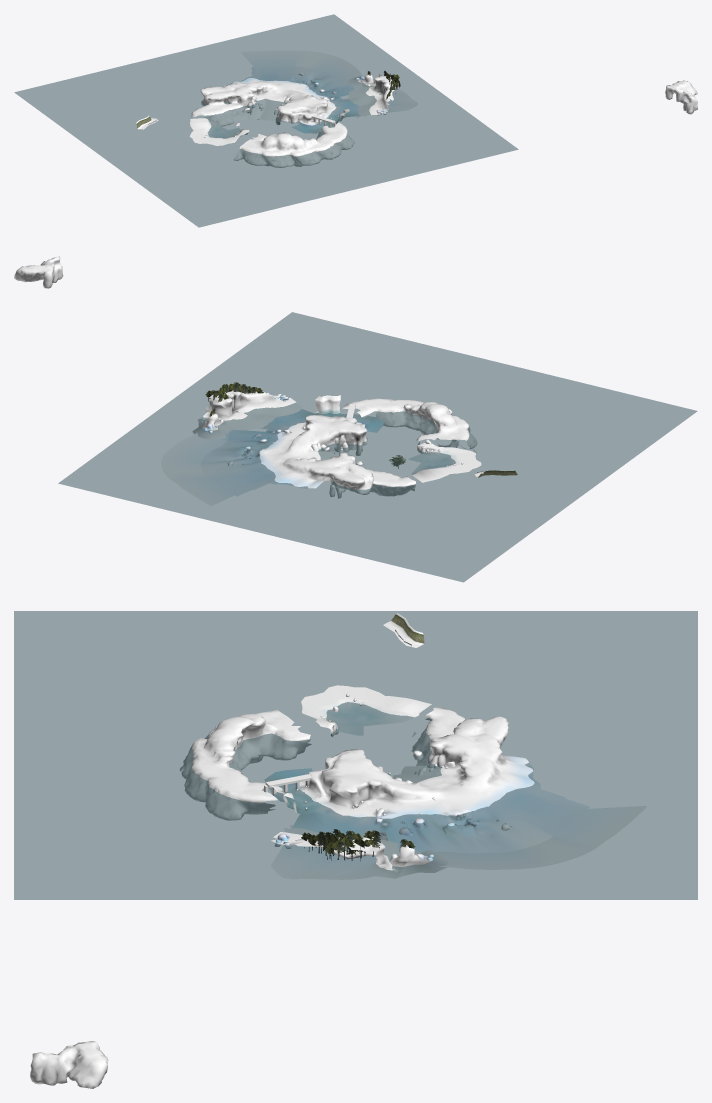
The model's file is lake.glb.
3 renders of one model, top to bottom at view 1: azimuth 30°, elevation 25°; view 2: azimuth 150°, elevation 25°; view 3: azimuth 270°, elevation 25°, orthographic. The views are drawn at different scales.
Visible parts, largest first — view 1: Plane, Cube, Cube_001; view 2: Plane, Cube, Cube_001, Plane_004; view 3: Plane, Cube, Cube_001, Plane_004.
Part boxes in pixels (x1=…): Plane: x1=14, y1=14, x2=518, y2=227; Cube: x1=189, y1=50, x2=418, y2=167; Cube_001: x1=278, y1=80, x2=697, y2=134; Plane: x1=58, y1=312, x2=697, y2=582; Cube: x1=161, y1=390, x2=481, y2=505; Cube_001: x1=14, y1=256, x2=345, y2=498; Plane_004: x1=205, y1=382, x2=263, y2=416; Plane: x1=14, y1=611, x2=697, y2=899; Cube: x1=180, y1=685, x2=646, y2=879; Cube_001: x1=30, y1=833, x2=387, y2=1088; Plane_004: x1=301, y1=829, x2=415, y2=861.
Bounding box in the file's own units: 343 × 35.62 × 212.
19 materials, 5 textured.
